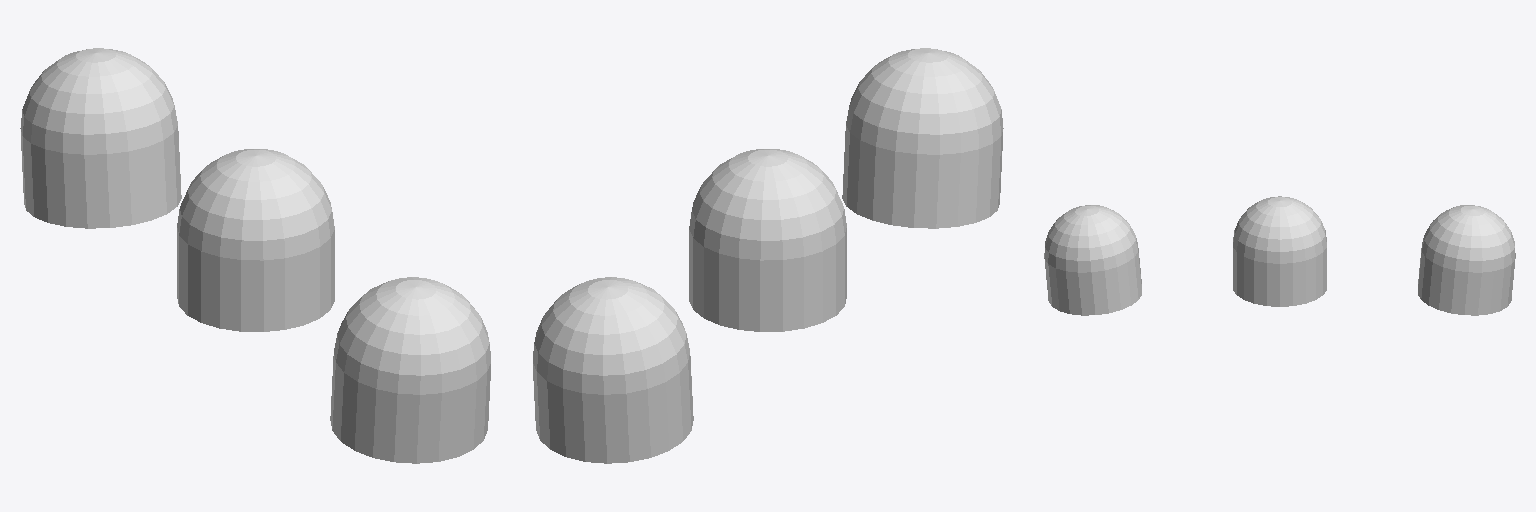
robot.urdf — allegro_hand_left:
<?xml version="1.0" ?>
<!-- =================================================================================== -->
<!-- |    This document was autogenerated by xacro from allegro_hand_left.xacro | -->
<!-- |    EDITING THIS FILE BY HAND IS NOT RECOMMENDED                                 | -->
<!-- =================================================================================== -->
<robot name="allegro_hand_left" xmlns:xacro="http://www.ros.org/wiki/xacro">
  <!-- ======================== BASE PARAMS ========================= -->
  <!-- ======================== FINGER PARAMS ======================== -->
  <!-- full height from joint to tip. when used,
         the radius of the finger tip sphere will be subtracted
         and one fixed link will be added for the tip. -->
  <!-- ========================= THUMB PARAMS ========================= -->
  <!-- ========================= LIMITS ========================= -->
  <!-- ============================================================================= -->
  <!-- PALM -->
  <link name="palm_link">
    <visual>
      <geometry>
        <mesh filename="package://allegro_hand/meshes/base_link_left.STL"/>
      </geometry>
      <origin rpy="-1.5707963259 0 0" xyz="0 0 0 "/>
      <material name="black">
        <color rgba="0.2 0.2 0.2 1"/>
      </material>
    </visual>
    <collision>
      <origin rpy="0 0 0" xyz="-0.009300 0 -0.0475"/>
      <geometry>
        <box size="0.0408 0.1130 0.095"/>
      </geometry>
    </collision>
    <inertial>
      <origin rpy="0 0 0" xyz="0 0 0.0475"/>
      <mass value="0.4154"/>
      <inertia ixx="1e-4" ixy="0.0" ixz="0.0" iyy="1e-4" iyz="0.0" izz="1e-4"/>
    </inertial>
  </link>
  <!-- ============================================================================= -->
  <!-- FINGERS -->
  <!-- RIGHT HAND due to which finger is number 0 -->
  <!-- for LEFT HAND switch the sign of the **offset_origin_y** and **finger_angle_r** parameters-->
  <!-- [LINK 0, 4, 8] -->
  <link name="link_8.0">
    <visual>
      <geometry>
        <mesh filename="package://allegro_hand/meshes/link_0.0.STL"/>
      </geometry>
      <material name="black"/>
    </visual>
    <collision>
      <geometry>
        <box size="0.0196 0.0275 0.0164"/>
      </geometry>
      <origin rpy="0 0 0" xyz="0 0 0.0082"/>
    </collision>
    <inertial>
      <mass value="0.0119"/>
      <origin rpy="0 0 0" xyz="0 0 0"/>
      <inertia ixx="1.01666658333e-06" ixy="0.0" ixz="0.0" iyy="6.47677333333e-07" iyz="0.0" izz="1.01666658333e-06"/>
    </inertial>
  </link>
  <joint name="joint_8.0" type="revolute">
    <axis xyz="0 0 1"/>
    <limit effort="15" lower="-0.47" upper="0.47" velocity="7"/>
    <parent link="palm_link"/>
    <child link="link_8.0"/>
    <origin rpy="-0.08726646255 0 0" xyz="0 0.0435 -0.001542"/>
    <dynamics damping="3" friction="10"/>
  </joint>
  <!-- [LINK 1, 5, 9] -->
  <link name="link_9.0">
    <visual>
      <geometry>
        <mesh filename="package://allegro_hand/meshes/link_1.0.STL"/>
      </geometry>
      <material name="black"/>
    </visual>
    <collision>
      <geometry>
        <box size="0.0196 0.0275 0.054"/>
      </geometry>
      <origin rpy="0 0 0" xyz="0 0 0.027"/>
    </collision>
    <inertial>
      <mass value="0.065"/>
      <origin rpy="0 0 0" xyz="0 0 0"/>
      <inertia ixx="7.95654166667e-05" ixy="1.7199e-05" ixz="8.75875e-06" iyy="2.47088833333e-05" iyz="2.413125e-05" izz="7.95654166667e-05"/>
    </inertial>
  </link>
  <joint name="joint_9.0" type="revolute">
    <limit effort="15" lower="-0.196" upper="1.61" velocity="7"/>
    <axis xyz="0 1 0"/>
    <parent link="link_8.0"/>
    <child link="link_9.0"/>
    <origin xyz="0 0 0.0164"/>
    <dynamics damping="3" friction="5"/>
  </joint>
  <!-- [LINK 2, 6, 10]-->
  <link name="link_10.0">
    <visual>
      <geometry>
        <mesh filename="package://allegro_hand/meshes/link_2.0.STL"/>
      </geometry>
      <material name="black"/>
    </visual>
    <collision>
      <geometry>
        <box size="0.0196 0.0275 0.0384"/>
      </geometry>
      <origin rpy="0 0 0" xyz="0 0 0.0192"/>
    </collision>
    <inertial>
      <mass value="0.0355"/>
      <origin rpy="0 0 0" xyz="0 0 0"/>
      <inertia ixx="2.63979183333e-05" ixy="6.67968e-06" ixz="4.783625e-06" iyy="1.34948516667e-05" iyz="9.372e-06" izz="2.63979183333e-05"/>
    </inertial>
  </link>
  <joint name="joint_10.0" type="revolute">
    <axis xyz="0 1 0"/>
    <limit effort="15" lower="-0.174" upper="1.709" velocity="7"/>
    <parent link="link_9.0"/>
    <child link="link_10.0"/>
    <origin xyz="0 0 0.054"/>
    <dynamics damping="8" friction="10"/>
  </joint>
  <!-- [LINK 3, 7, 11] -->
  <link name="link_11.0">
    <visual>
      <geometry>
        <mesh filename="package://allegro_hand/meshes/link_3.0.STL"/>
      </geometry>
      <material name="black"/>
    </visual>
    <collision>
      <geometry>
        <box size="0.0196 0.0275 0.0267"/>
      </geometry>
      <origin rpy="0 0 0" xyz="0 0 0.01335"/>
    </collision>
    <inertial>
      <mass value="0.0096"/>
      <origin rpy="0 0 0" xyz="0 0 0"/>
      <inertia ixx="4.701248e-06" ixy="1.255968e-06" ixz="1.2936e-06" iyy="3.649312e-06" iyz="1.7622e-06" izz="4.701248e-06"/>
    </inertial>
  </link>
  <joint name="joint_11.0" type="revolute">
    <axis xyz="0 1 0"/>
    <limit effort="15" lower="-0.227" upper="1.618" velocity="7"/>
    <parent link="link_10.0"/>
    <child link="link_11.0"/>
    <origin xyz="0 0 0.0384"/>
    <dynamics damping="10" friction="12"/>
  </joint>
  <!-- [FINGER TIP] -->
  <link name="link_11.0_tip">
    <visual>
      <geometry>
        <mesh filename="package://allegro_hand/meshes/link_3.0_tip.STL"/>
      </geometry>
      <material name="white">
        <color rgba=".9 .9 .9 1"/>
      </material>
    </visual>
    <collision>
      <geometry>
        <sphere radius="0.012"/>
      </geometry>
    </collision>
    <inertial>
      <mass value="0.0168"/>
      <origin rpy="0 0 0" xyz="0 0 0"/>
      <inertia ixx="9.68e-07" ixy="0" ixz="0" iyy="9.68e-07" iyz="0" izz="9.68e-07"/>
    </inertial>
  </link>
  <joint name="joint_11.0_tip" type="fixed">
    <parent link="link_11.0"/>
    <child link="link_11.0_tip"/>
    <origin rpy="0 0 0" xyz="0 0 0.0267"/>
  </joint>
  <!-- [LINK 0, 4, 8] -->
  <link name="link_4.0">
    <visual>
      <geometry>
        <mesh filename="package://allegro_hand/meshes/link_0.0.STL"/>
      </geometry>
      <material name="black"/>
    </visual>
    <collision>
      <geometry>
        <box size="0.0196 0.0275 0.0164"/>
      </geometry>
      <origin rpy="0 0 0" xyz="0 0 0.0082"/>
    </collision>
    <inertial>
      <mass value="0.0119"/>
      <origin rpy="0 0 0" xyz="0 0 0"/>
      <inertia ixx="1.01666658333e-06" ixy="0.0" ixz="0.0" iyy="6.47677333333e-07" iyz="0.0" izz="1.01666658333e-06"/>
    </inertial>
  </link>
  <joint name="joint_4.0" type="revolute">
    <axis xyz="0 0 1"/>
    <limit effort="15" lower="-0.47" upper="0.47" velocity="7"/>
    <parent link="palm_link"/>
    <child link="link_4.0"/>
    <origin rpy="0.0 0 0" xyz="0 0 0.0007"/>
    <dynamics damping="3" friction="10"/>
  </joint>
  <!-- [LINK 1, 5, 9] -->
  <link name="link_5.0">
    <visual>
      <geometry>
        <mesh filename="package://allegro_hand/meshes/link_1.0.STL"/>
      </geometry>
      <material name="black"/>
    </visual>
    <collision>
      <geometry>
        <box size="0.0196 0.0275 0.054"/>
      </geometry>
      <origin rpy="0 0 0" xyz="0 0 0.027"/>
    </collision>
    <inertial>
      <mass value="0.065"/>
      <origin rpy="0 0 0" xyz="0 0 0"/>
      <inertia ixx="7.95654166667e-05" ixy="1.7199e-05" ixz="8.75875e-06" iyy="2.47088833333e-05" iyz="2.413125e-05" izz="7.95654166667e-05"/>
    </inertial>
  </link>
  <joint name="joint_5.0" type="revolute">
    <limit effort="15" lower="-0.196" upper="1.61" velocity="7"/>
    <axis xyz="0 1 0"/>
    <parent link="link_4.0"/>
    <child link="link_5.0"/>
    <origin xyz="0 0 0.0164"/>
    <dynamics damping="3" friction="5"/>
  </joint>
  <!-- [LINK 2, 6, 10]-->
  <link name="link_6.0">
    <visual>
      <geometry>
        <mesh filename="package://allegro_hand/meshes/link_2.0.STL"/>
      </geometry>
      <material name="black"/>
    </visual>
    <collision>
      <geometry>
        <box size="0.0196 0.0275 0.0384"/>
      </geometry>
      <origin rpy="0 0 0" xyz="0 0 0.0192"/>
    </collision>
    <inertial>
      <mass value="0.0355"/>
      <origin rpy="0 0 0" xyz="0 0 0"/>
      <inertia ixx="2.63979183333e-05" ixy="6.67968e-06" ixz="4.783625e-06" iyy="1.34948516667e-05" iyz="9.372e-06" izz="2.63979183333e-05"/>
    </inertial>
  </link>
  <joint name="joint_6.0" type="revolute">
    <axis xyz="0 1 0"/>
    <limit effort="15" lower="-0.174" upper="1.709" velocity="7"/>
    <parent link="link_5.0"/>
    <child link="link_6.0"/>
    <origin xyz="0 0 0.054"/>
    <dynamics damping="8" friction="10"/>
  </joint>
  <!-- [LINK 3, 7, 11] -->
  <link name="link_7.0">
    <visual>
      <geometry>
        <mesh filename="package://allegro_hand/meshes/link_3.0.STL"/>
      </geometry>
      <material name="black"/>
    </visual>
    <collision>
      <geometry>
        <box size="0.0196 0.0275 0.0267"/>
      </geometry>
      <origin rpy="0 0 0" xyz="0 0 0.01335"/>
    </collision>
    <inertial>
      <mass value="0.0096"/>
      <origin rpy="0 0 0" xyz="0 0 0"/>
      <inertia ixx="4.701248e-06" ixy="1.255968e-06" ixz="1.2936e-06" iyy="3.649312e-06" iyz="1.7622e-06" izz="4.701248e-06"/>
    </inertial>
  </link>
  <joint name="joint_7.0" type="revolute">
    <axis xyz="0 1 0"/>
    <limit effort="15" lower="-0.227" upper="1.618" velocity="7"/>
    <parent link="link_6.0"/>
    <child link="link_7.0"/>
    <origin xyz="0 0 0.0384"/>
    <dynamics damping="10" friction="12"/>
  </joint>
  <!-- [FINGER TIP] -->
  <link name="link_7.0_tip">
    <visual>
      <geometry>
        <mesh filename="package://allegro_hand/meshes/link_3.0_tip.STL"/>
      </geometry>
      <material name="white">
        <color rgba=".9 .9 .9 1"/>
      </material>
    </visual>
    <collision>
      <geometry>
        <sphere radius="0.012"/>
      </geometry>
    </collision>
    <inertial>
      <mass value="0.0168"/>
      <origin rpy="0 0 0" xyz="0 0 0"/>
      <inertia ixx="9.68e-07" ixy="0" ixz="0" iyy="9.68e-07" iyz="0" izz="9.68e-07"/>
    </inertial>
  </link>
  <joint name="joint_7.0_tip" type="fixed">
    <parent link="link_7.0"/>
    <child link="link_7.0_tip"/>
    <origin rpy="0 0 0" xyz="0 0 0.0267"/>
  </joint>
  <!-- [LINK 0, 4, 8] -->
  <link name="link_0.0">
    <visual>
      <geometry>
        <mesh filename="package://allegro_hand/meshes/link_0.0.STL"/>
      </geometry>
      <material name="black"/>
    </visual>
    <collision>
      <geometry>
        <box size="0.0196 0.0275 0.0164"/>
      </geometry>
      <origin rpy="0 0 0" xyz="0 0 0.0082"/>
    </collision>
    <inertial>
      <mass value="0.0119"/>
      <origin rpy="0 0 0" xyz="0 0 0"/>
      <inertia ixx="1.01666658333e-06" ixy="0.0" ixz="0.0" iyy="6.47677333333e-07" iyz="0.0" izz="1.01666658333e-06"/>
    </inertial>
  </link>
  <joint name="joint_0.0" type="revolute">
    <axis xyz="0 0 1"/>
    <limit effort="15" lower="-0.47" upper="0.47" velocity="7"/>
    <parent link="palm_link"/>
    <child link="link_0.0"/>
    <origin rpy="0.08726646255 0 0" xyz="0 -0.0435 -0.001542"/>
    <dynamics damping="3" friction="10"/>
  </joint>
  <!-- [LINK 1, 5, 9] -->
  <link name="link_1.0">
    <visual>
      <geometry>
        <mesh filename="package://allegro_hand/meshes/link_1.0.STL"/>
      </geometry>
      <material name="black"/>
    </visual>
    <collision>
      <geometry>
        <box size="0.0196 0.0275 0.054"/>
      </geometry>
      <origin rpy="0 0 0" xyz="0 0 0.027"/>
    </collision>
    <inertial>
      <mass value="0.065"/>
      <origin rpy="0 0 0" xyz="0 0 0"/>
      <inertia ixx="7.95654166667e-05" ixy="1.7199e-05" ixz="8.75875e-06" iyy="2.47088833333e-05" iyz="2.413125e-05" izz="7.95654166667e-05"/>
    </inertial>
  </link>
  <joint name="joint_1.0" type="revolute">
    <limit effort="15" lower="-0.196" upper="1.61" velocity="7"/>
    <axis xyz="0 1 0"/>
    <parent link="link_0.0"/>
    <child link="link_1.0"/>
    <origin xyz="0 0 0.0164"/>
    <dynamics damping="3" friction="5"/>
  </joint>
  <!-- [LINK 2, 6, 10]-->
  <link name="link_2.0">
    <visual>
      <geometry>
        <mesh filename="package://allegro_hand/meshes/link_2.0.STL"/>
      </geometry>
      <material name="black"/>
    </visual>
    <collision>
      <geometry>
        <box size="0.0196 0.0275 0.0384"/>
      </geometry>
      <origin rpy="0 0 0" xyz="0 0 0.0192"/>
    </collision>
    <inertial>
      <mass value="0.0355"/>
      <origin rpy="0 0 0" xyz="0 0 0"/>
      <inertia ixx="2.63979183333e-05" ixy="6.67968e-06" ixz="4.783625e-06" iyy="1.34948516667e-05" iyz="9.372e-06" izz="2.63979183333e-05"/>
    </inertial>
  </link>
  <joint name="joint_2.0" type="revolute">
    <axis xyz="0 1 0"/>
    <limit effort="15" lower="-0.174" upper="1.709" velocity="7"/>
    <parent link="link_1.0"/>
    <child link="link_2.0"/>
    <origin xyz="0 0 0.054"/>
    <dynamics damping="8" friction="10"/>
  </joint>
  <!-- [LINK 3, 7, 11] -->
  <link name="link_3.0">
    <visual>
      <geometry>
        <mesh filename="package://allegro_hand/meshes/link_3.0.STL"/>
      </geometry>
      <material name="black"/>
    </visual>
    <collision>
      <geometry>
        <box size="0.0196 0.0275 0.0267"/>
      </geometry>
      <origin rpy="0 0 0" xyz="0 0 0.01335"/>
    </collision>
    <inertial>
      <mass value="0.0096"/>
      <origin rpy="0 0 0" xyz="0 0 0"/>
      <inertia ixx="4.701248e-06" ixy="1.255968e-06" ixz="1.2936e-06" iyy="3.649312e-06" iyz="1.7622e-06" izz="4.701248e-06"/>
    </inertial>
  </link>
  <joint name="joint_3.0" type="revolute">
    <axis xyz="0 1 0"/>
    <limit effort="15" lower="-0.227" upper="1.618" velocity="7"/>
    <parent link="link_2.0"/>
    <child link="link_3.0"/>
    <origin xyz="0 0 0.0384"/>
    <dynamics damping="10" friction="12"/>
  </joint>
  <!-- [FINGER TIP] -->
  <link name="link_3.0_tip">
    <visual>
      <geometry>
        <mesh filename="package://allegro_hand/meshes/link_3.0_tip.STL"/>
      </geometry>
      <material name="white">
        <color rgba=".9 .9 .9 1"/>
      </material>
    </visual>
    <collision>
      <geometry>
        <sphere radius="0.012"/>
      </geometry>
    </collision>
    <inertial>
      <mass value="0.0168"/>
      <origin rpy="0 0 0" xyz="0 0 0"/>
      <inertia ixx="9.68e-07" ixy="0" ixz="0" iyy="9.68e-07" iyz="0" izz="9.68e-07"/>
    </inertial>
  </link>
  <joint name="joint_3.0_tip" type="fixed">
    <parent link="link_3.0"/>
    <child link="link_3.0_tip"/>
    <origin rpy="0 0 0" xyz="0 0 0.0267"/>
  </joint>
  <!-- THUMB -->
  <!-- [LINK 12] -->
  <link name="link_12.0">
    <visual>
      <geometry>
        <mesh filename="package://allegro_hand/meshes/link_12.0_left.STL"/>
      </geometry>
      <material name="black">
        <color rgba=".2 .2 .2 1"/>
      </material>
      <origin rpy="3.1415926518 0 0" xyz="0 0 0"/>
    </visual>
    <collision>
      <geometry>
        <box size="0.0358 0.034 0.0455"/>
      </geometry>
      <origin rpy="0 0 0" xyz="-0.0179 -0.009 0.0145"/>
    </collision>
    <inertial>
      <mass value="0.0176"/>
      <origin rpy="0 0 0" xyz="0 0 0"/>
      <inertia ixx="1.89273333333e-5" ixy="7.16716e-06" ixz="5.35568e-06" iyy="1.43008213333e-05" iyz="6.8068e-06" izz="1.89273333333e-05"/>
    </inertial>
  </link>
  <joint name="joint_12.0" type="revolute">
    <axis xyz="+1 0 0"/>
    <limit effort="15" lower="0.263" upper="1.396" velocity="7"/>
    <parent link="palm_link"/>
    <child link="link_12.0"/>
    <origin rpy="0 -1.65806278845 1.5707963259" xyz="-0.0182 -0.019333 -0.045987"/>
    <dynamics damping="3" friction="10"/>
  </joint>
  <!-- [LINK 13] -->
  <link name="link_13.0">
    <visual>
      <geometry>
        <mesh filename="package://allegro_hand/meshes/link_13.0.STL"/>
      </geometry>
      <material name="black">
        <color rgba=".2 .2 .2 1"/>
      </material>
    </visual>
    <collision>
      <geometry>
        <box size="0.0196 0.0275 0.0177"/>
      </geometry>
      <origin rpy="0 0 0" xyz="0 0 0.00885"/>
    </collision>
    <inertial>
      <mass value="0.0119"/>
      <origin rpy="0 0 0" xyz="0 0 0"/>
      <inertia ixx="4.24250866667e-06" ixy="1.032087e-06" ixz="1.603525e-06" iyy="4.52362633333e-06" iyz="1.44808125e-06" izz="4.24250866667e-06"/>
    </inertial>
  </link>
  <joint name="joint_13.0" type="revolute">
    <axis xyz="0 0 -1"/>
    <limit effort="15" lower="-0.105" upper="1.163" velocity="7"/>
    <parent link="link_12.0"/>
    <child link="link_13.0"/>
    <origin xyz="-0.027 -0.005 0.0399"/>
    <dynamics damping="3" friction="5"/>
  </joint>
  <!-- [LINK 14] -->
  <link name="link_14.0">
    <visual>
      <geometry>
        <mesh filename="package://allegro_hand/meshes/link_14.0.STL"/>
      </geometry>
      <material name="black">
                </material>
    </visual>
    <collision>
      <geometry>
        <box size="0.0196 0.0275 0.0514"/>
      </geometry>
      <origin rpy="0 0 0" xyz="0 0 0.0257"/>
    </collision>
    <inertial>
      <mass value="0.038"/>
      <origin rpy="0 0 0" xyz="0 0 0"/>
      <inertia ixx="4.30439933333e-05" ixy="9.57068e-06" ixz="5.1205e-06" iyy="1.44451933333e-05" iyz="1.342825e-05" izz="4.30439933333e-05"/>
    </inertial>
  </link>
  <joint name="joint_14.0" type="revolute">
    <axis xyz="0 1 0"/>
    <limit effort="15" lower="-0.189" upper="1.644" velocity="7"/>
    <parent link="link_13.0"/>
    <child link="link_14.0"/>
    <origin xyz="0 0 0.0177"/>
    <dynamics damping="3" friction="10"/>
  </joint>
  <!-- [LINK 15] -->
  <link name="link_15.0">
    <visual>
      <geometry>
        <mesh filename="package://allegro_hand/meshes/link_15.0.STL"/>
      </geometry>
      <material name="black">
                </material>
    </visual>
    <collision>
      <geometry>
        <box size="0.0196 0.0275 0.0423"/>
      </geometry>
      <origin rpy="0 0 0" xyz="0 0 0.02115"/>
    </collision>
    <inertial>
      <mass value="0.0388"/>
      <origin rpy="0 0 0" xyz="0 0 0"/>
      <inertia ixx="3.29223173333e-05" ixy="8.042076e-06" ixz="5.2283e-06" iyy="1.47493026667e-5" iyz="1.1283525e-5" izz="3.29223173333e-05"/>
    </inertial>
  </link>
  <joint name="joint_15.0" type="revolute">
    <axis xyz="0 1 0"/>
    <limit effort="15" lower="-0.162" upper="1.719" velocity="7"/>
    <parent link="link_14.0"/>
    <child link="link_15.0"/>
    <origin xyz="0 0 0.0514"/>
    <dynamics damping="3" friction="12"/>
  </joint>
  <!-- [FINGER TIP] -->
  <link name="link_15.0_tip">
    <visual>
      <geometry>
        <mesh filename="package://allegro_hand/meshes/link_15.0_tip.STL"/>
      </geometry>
      <material name="white">
        <color rgba=".9 .9 .9 1"/>
      </material>
    </visual>
    <collision>
      <geometry>
        <sphere radius="0.012"/>
      </geometry>
      <origin rpy="0 0 0" xyz="0 0 0"/>
    </collision>
    <inertial>
      <mass value="0.0168"/>
      <origin rpy="0 0 0" xyz="0 0 0"/>
      <inertia ixx="9.68e-07" ixy="0" ixz="0" iyy="9.68e-07" iyz="0" izz="9.68e-07"/>
    </inertial>
  </link>
  <joint name="joint_15.0_tip" type="fixed">
    <parent link="link_15.0"/>
    <child link="link_15.0_tip"/>
    <origin rpy="0 0 0" xyz="0 0 0.0423"/>
  </joint>
  <!-- ============================================================================= -->
  <!-- THUMB MACRO -->
  <!-- END THUMB MACRO -->
  <!-- THREE FINGER MACRO -->
  <!-- [[END]] THREE FINGER MACRO -->
</robot>

--- Facts derived from the render (not from the file) ---
Views: 3 orthographic renders of the robot side by side, from view 1: azimuth 30°, elevation 25°; view 2: azimuth 150°, elevation 25°; view 3: azimuth 270°, elevation 25°.
Robot: allegro_hand_left — 21 links, 20 joints (16 revolute, 4 fixed); root link palm_link; default pose: joints at zero except 1 at the middle of their limits (joint_12.0 = 0.8295).
Visible links, largest first — view 1: link_3.0_tip, link_7.0_tip, link_11.0_tip; view 2: link_11.0_tip, link_7.0_tip, link_3.0_tip; view 3: link_11.0_tip, link_3.0_tip, link_7.0_tip.
Boxes of the visible links, x1=… form: link_3.0_tip: x1=330, y1=277, x2=490, y2=463; link_7.0_tip: x1=177, y1=149, x2=334, y2=331; link_11.0_tip: x1=20, y1=48, x2=181, y2=228; link_11.0_tip: x1=533, y1=277, x2=693, y2=463; link_7.0_tip: x1=689, y1=149, x2=846, y2=331; link_3.0_tip: x1=842, y1=48, x2=1003, y2=228; link_11.0_tip: x1=1418, y1=205, x2=1515, y2=315; link_3.0_tip: x1=1044, y1=205, x2=1141, y2=315; link_7.0_tip: x1=1233, y1=196, x2=1326, y2=306.
Size in the robot's own frame: 0.028 by 0.1386 by 0.0319 metres.
Meshes: 11 distinct files referenced, 3 mesh visuals loaded (1 binary STL); not drawn: 18 (reference not matched to a file when rendering).